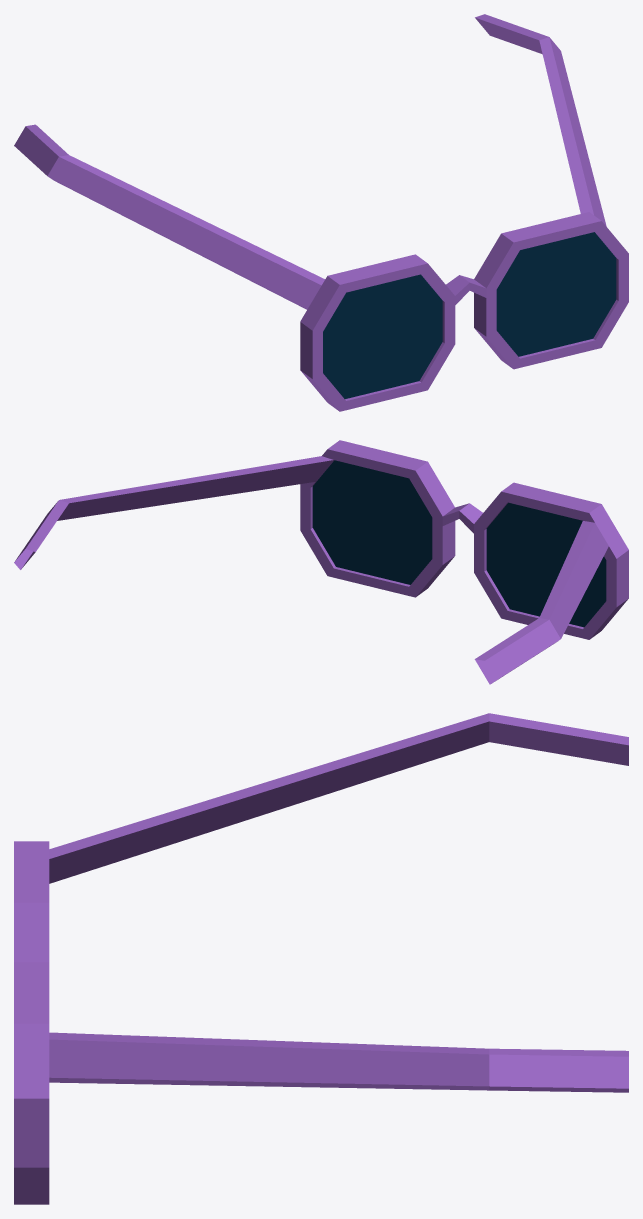
File: TouristGirl_Glasses.fbx
The picture shows the model from 3 angles, top to bottom: view 1: azimuth 30°, elevation 25°; view 2: azimuth 150°, elevation 25°; view 3: azimuth 270°, elevation 25°; orthographic projection. The views are drawn at different scales.
Parts seen in each view (by area): view 1: TouristGirl_Glasses; view 2: TouristGirl_Glasses; view 3: TouristGirl_Glasses.
Boxes of the visible parts, bbox=[...] form: TouristGirl_Glasses: bbox=[14, 14, 628, 411]; TouristGirl_Glasses: bbox=[14, 440, 628, 684]; TouristGirl_Glasses: bbox=[14, 713, 628, 1204].
Size of the model in its own units: 19.01 by 5.7 by 13.82.
